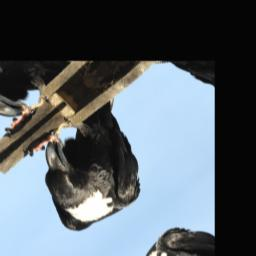Crow: (4, 85, 181, 249)
